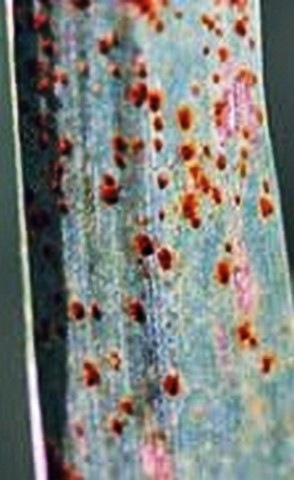Leaf Rust: (28, 20, 286, 458)
